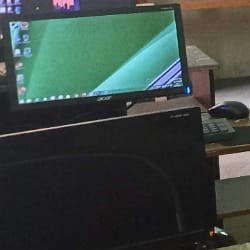monitor: (0, 3, 235, 144), (0, 107, 234, 246)
